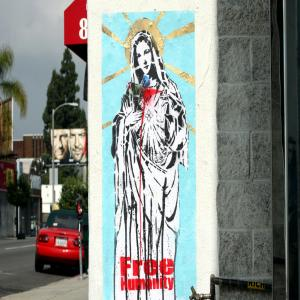Vehicle-registration-plate: (56, 238, 68, 249)
